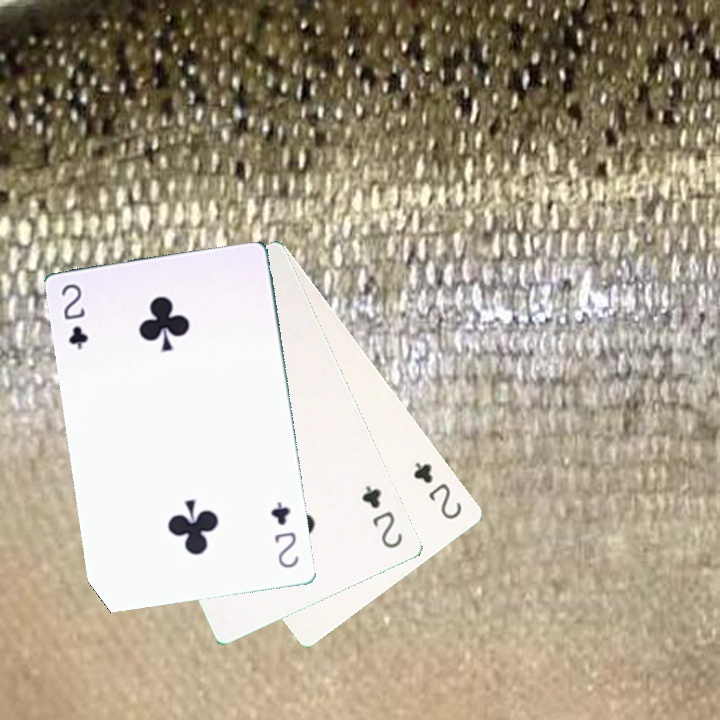2c: (409, 457, 465, 522), (357, 481, 405, 551), (266, 498, 302, 571), (57, 280, 91, 352)
